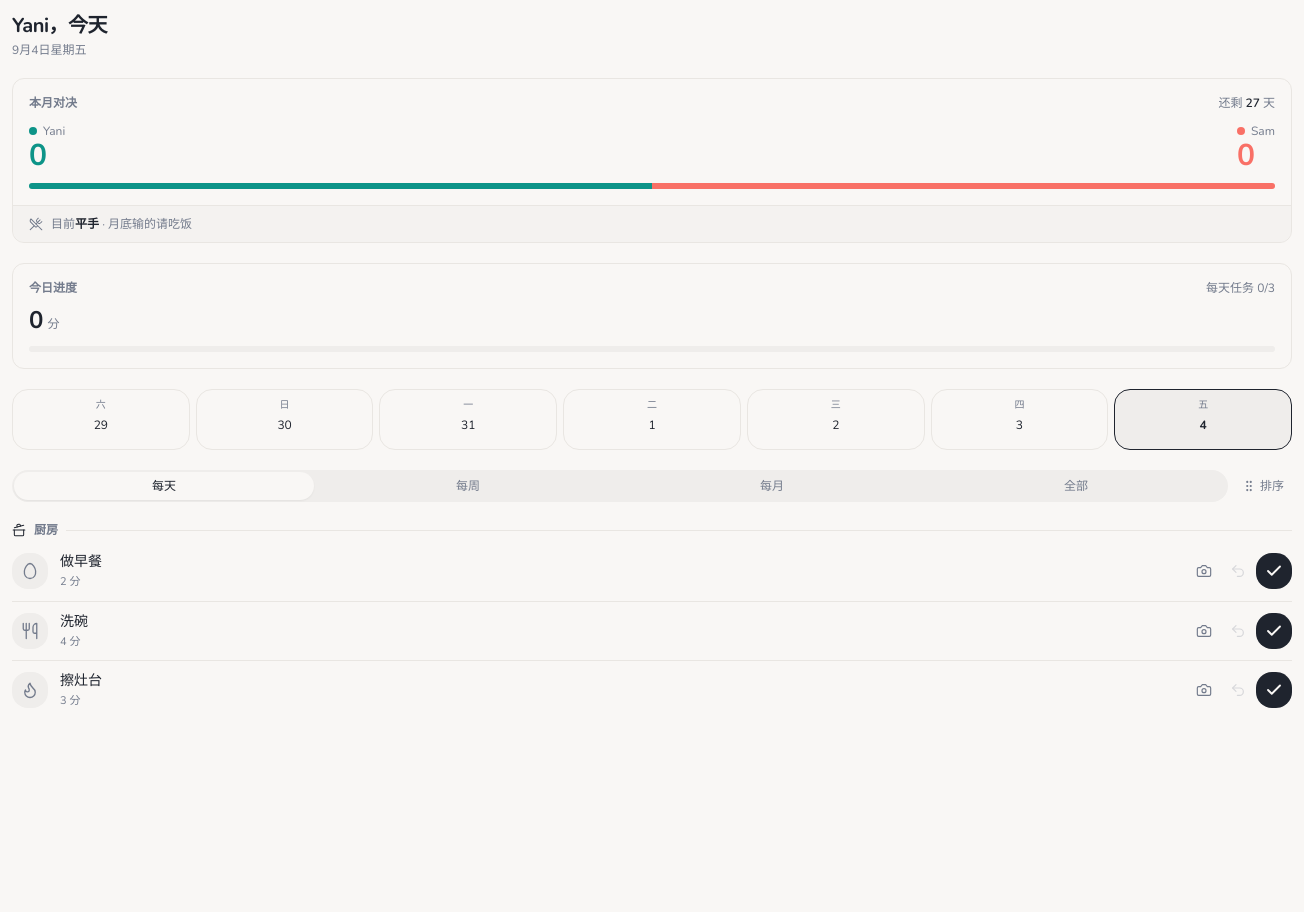
Test case: manual task order › sort mode drops the frequency filter so nothing is hidden mid-drag
Expected: the text "洗碗" is shown, [60,612,88,630]
Expected: the text "洗油烟机" is not shown
Click the button titled "调整任务顺序" at (1263, 486), box [1234,472,1292,500]
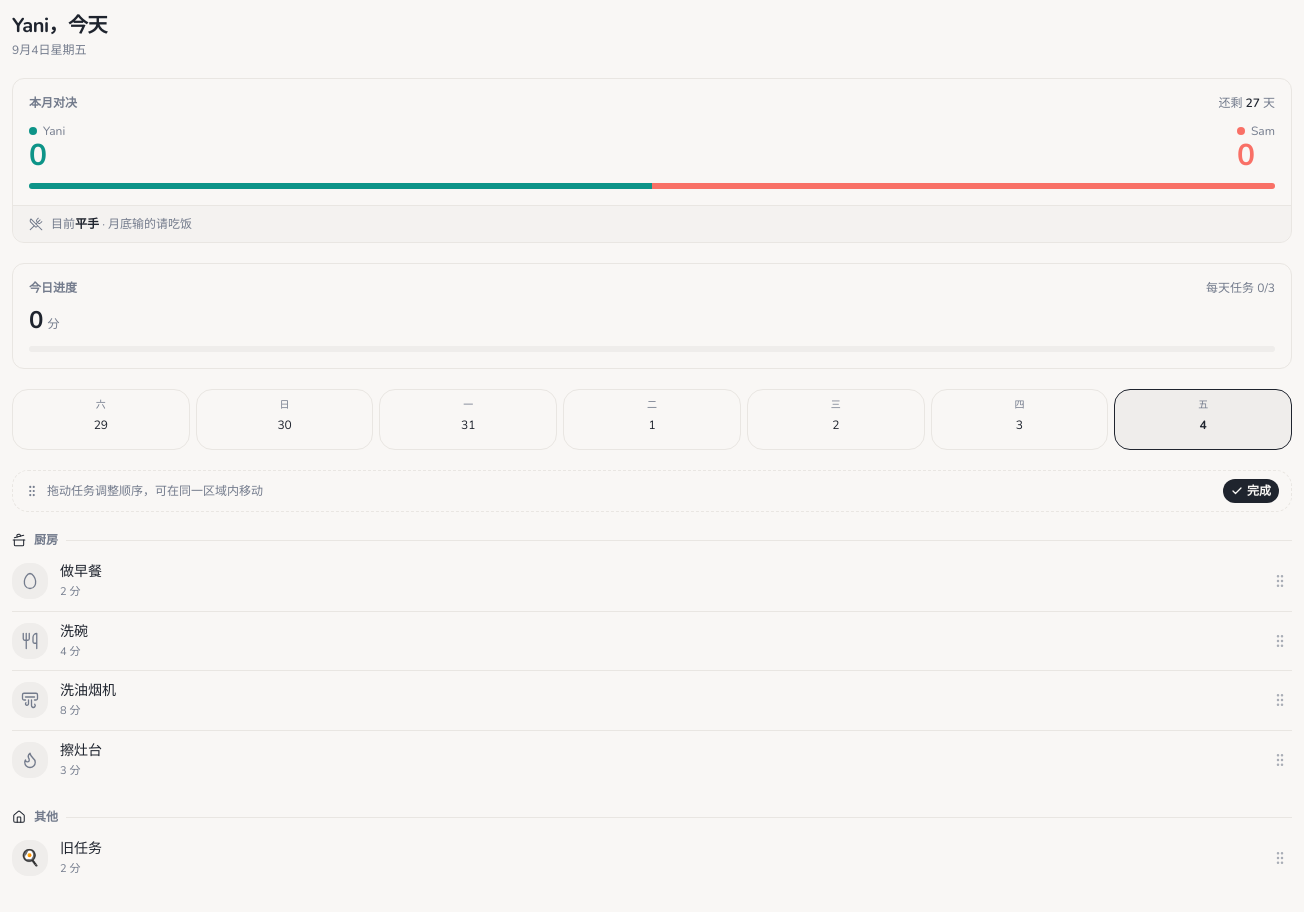
Expected: the text "洗油烟机" is shown, [60,681,116,700]
Expected: the text "拖动任务调整顺序，可在同一区域内移动" is shown, [47,483,263,499]
Leaving sort mode restores the filter you came from.
Click the button "完成" at (1251, 491), box [1223,479,1279,503]
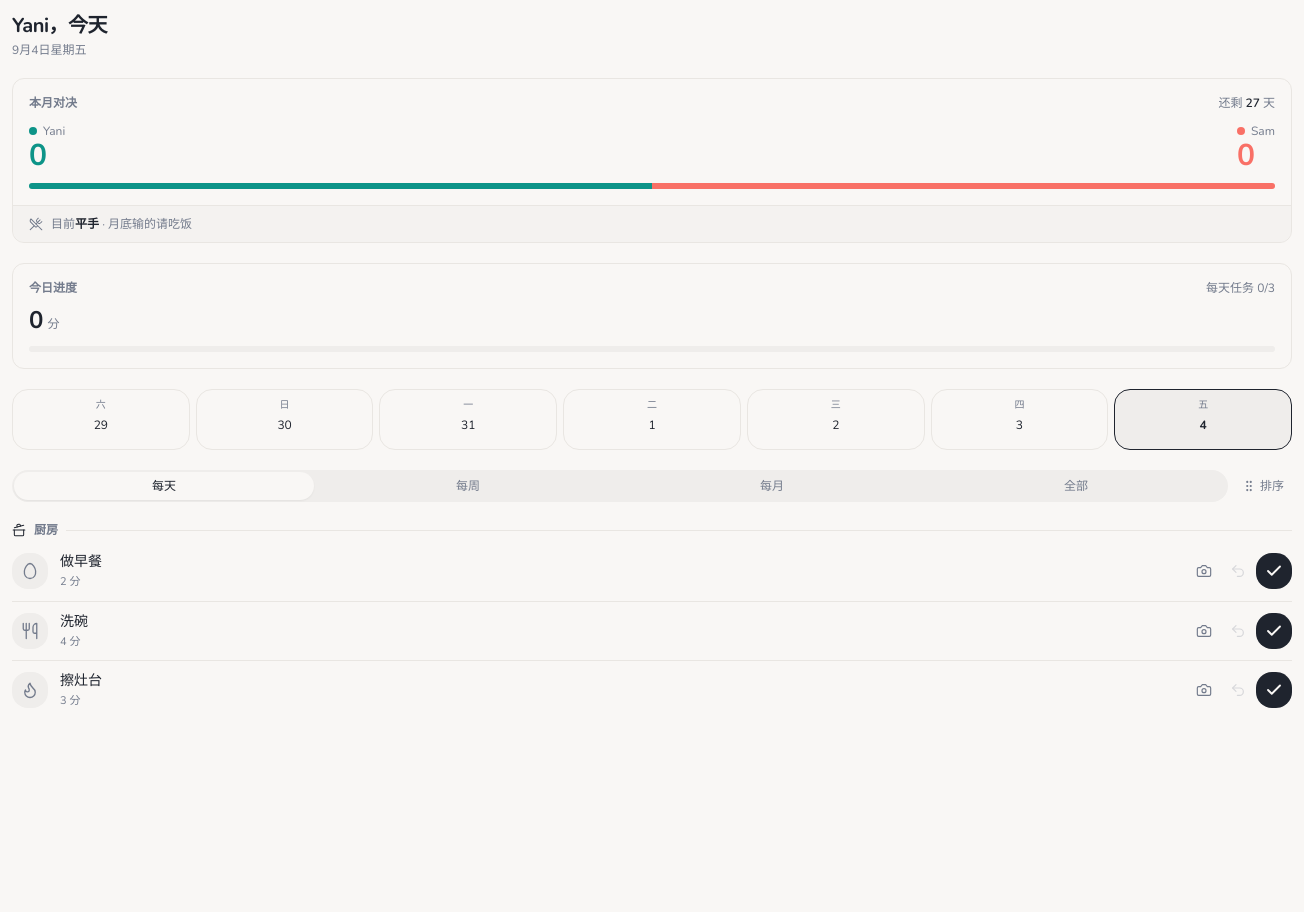
Expected: the text "洗油烟机" is gone
